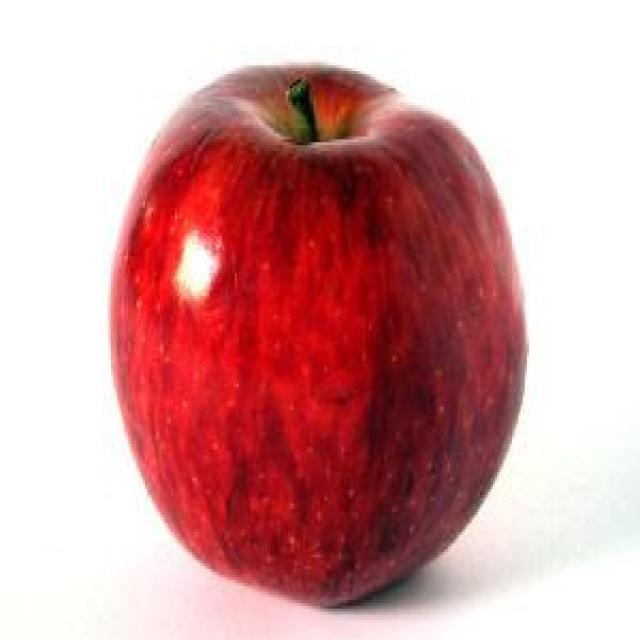Apple: (107, 56, 531, 610)
